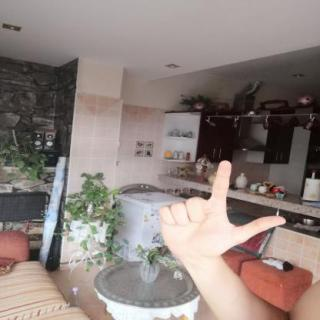LAAM: (151, 154, 293, 265)
